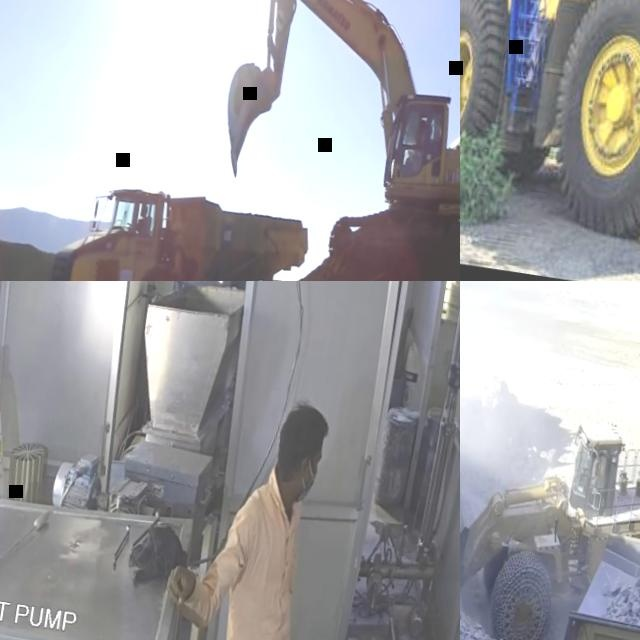Mask: (298, 464, 316, 503)
NO-Hardhat: (279, 399, 332, 447)
NO-Safety Vest: (214, 486, 314, 640)
Person: (148, 381, 330, 640), (402, 125, 432, 176), (134, 209, 150, 237)
machinery: (204, 0, 460, 281), (460, 0, 640, 281), (460, 393, 640, 640), (38, 170, 313, 281), (535, 498, 640, 640)
